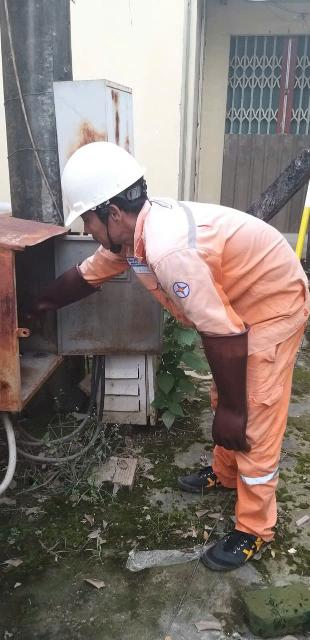gloves: (192, 324, 271, 447), (5, 260, 106, 336)
helmet: (29, 139, 167, 222)
shoes: (199, 502, 283, 586), (169, 456, 230, 501)
